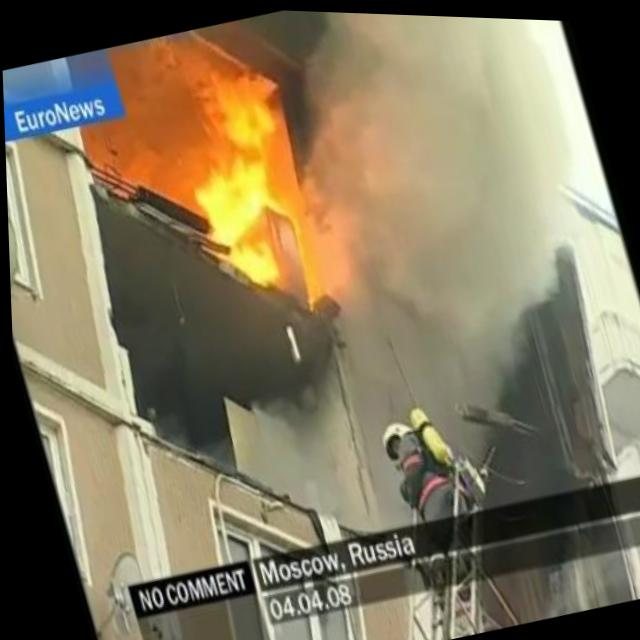fire: (159, 59, 328, 294)
